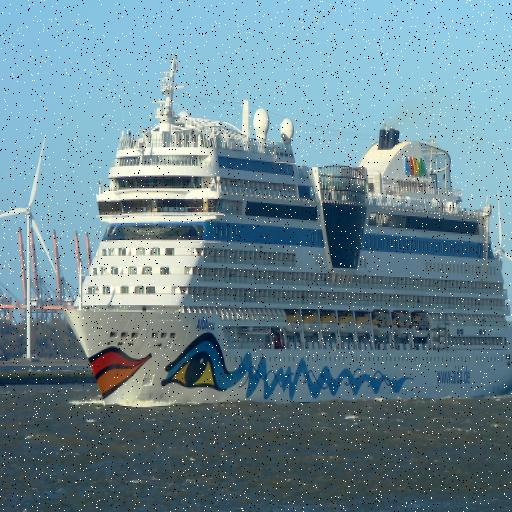cruises: (63, 52, 512, 409)
